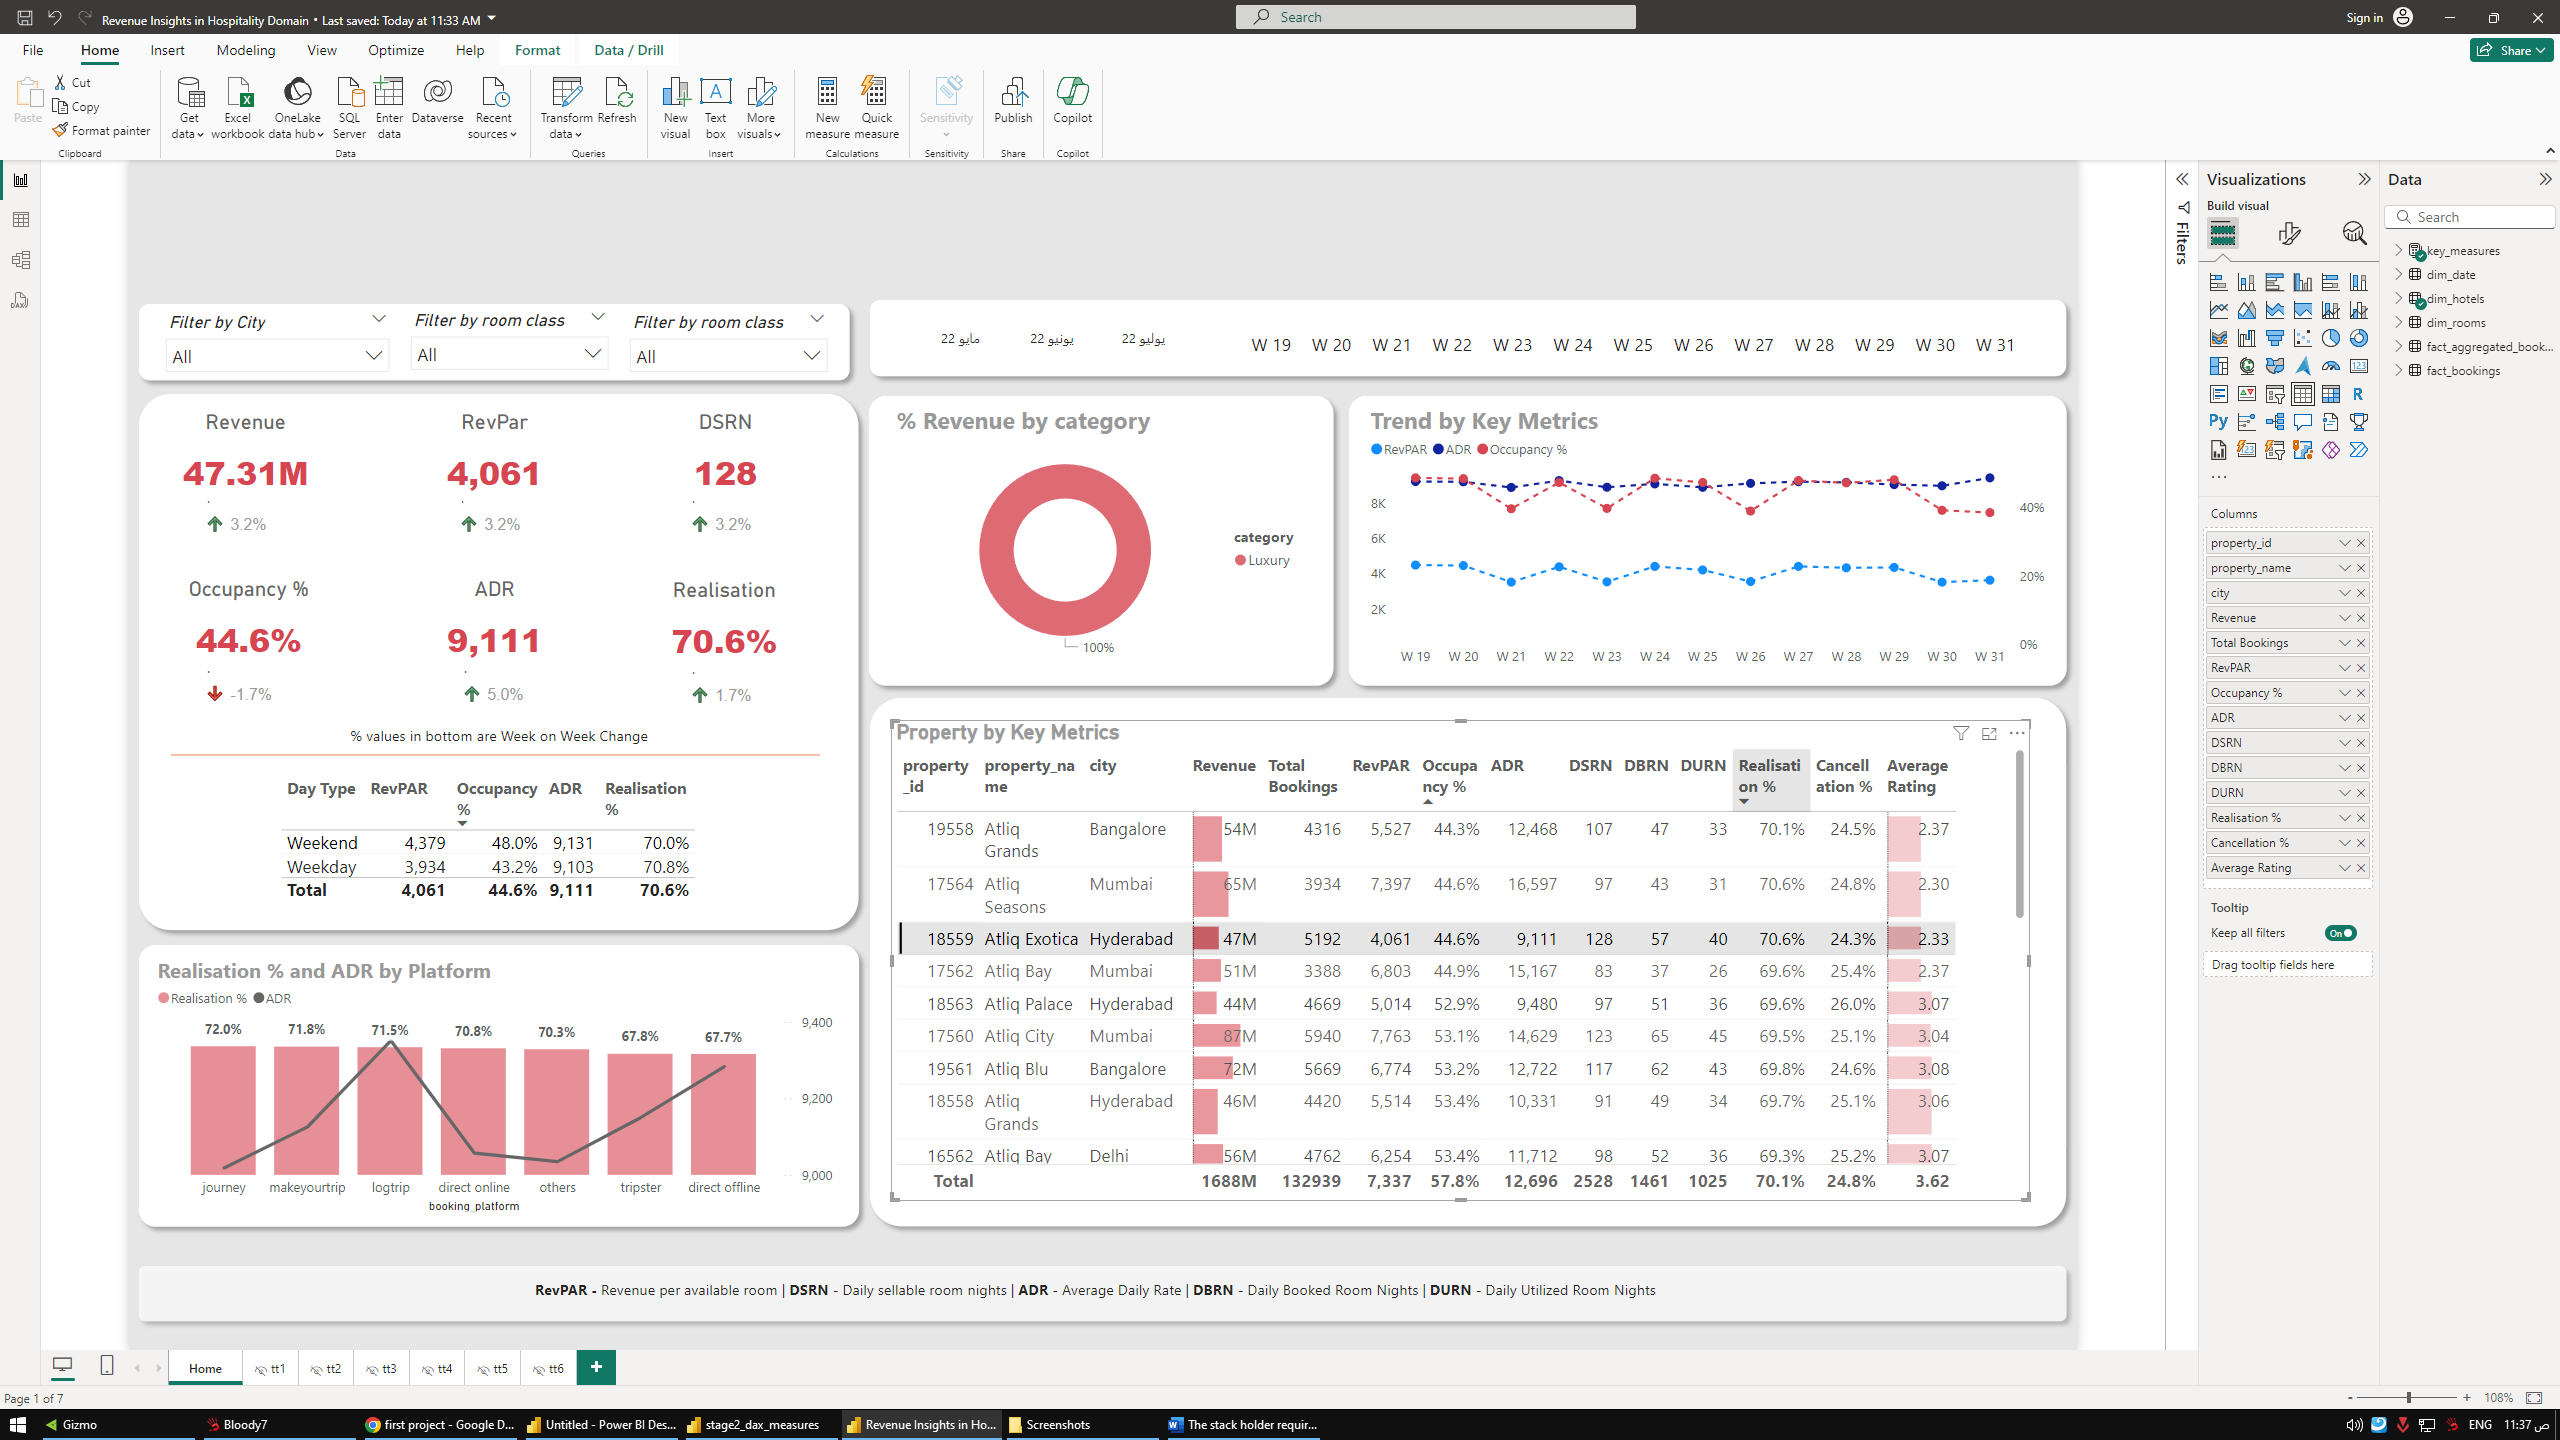

The dashboard page shown, as its layout file describes it:
{"tool":"powerbi","page":{"name":"Page 1","canvas":[1280,720],"ordinal":0},"visuals":[{"type":"tableEx","fields":{"Values":["dim_hotels.property_id","dim_hotels.property_name","key_measures.Revenue","key_measures.Total Bookings","key_measures.RevPAR","key_measures.Occupancy %","key_measures.ADR","key_measures.DSRN","key_measures.DBRN","key_measures.DURN","key_measures.Realisation %","key_measures.Cancellation %"]},"box":[277.8,248.5,987.6,446.6],"z":0},{"type":"advancedSlicerVisual","title":"filter by city ","fields":{"Values":["dim_hotels.city"]},"box":[0,113.9,478.8,62.1],"z":1000},{"type":"advancedSlicerVisual","title":"filter by room type","fields":{"Values":["dim_rooms.room_class"]},"box":[0,51.2,555.5,69.4],"z":2000},{"type":"advancedSlicerVisual","fields":{"Values":["dim_date.mmm yy"]},"box":[552.5,64.6,238.8,56],"z":3000},{"type":"advancedSlicerVisual","fields":{"Values":["dim_date.week no"]},"box":[0,0,1104.8,51],"z":4000},{"type":"card","title":"Revenue","fields":{"Values":["key_measures.Revenue"]},"box":[0,176.5,127.4,87.9],"z":5000},{"type":"tableEx","fields":{"Values":["key_measures.Revenue WoW change %"]},"box":[15.9,248.5,107,59.9],"z":6000},{"type":"donutChart","fields":{"Category":["dim_hotels.category"],"Y":["key_measures.Occupancy %"]},"box":[997.1,52.9,257.4,182.2],"z":6001}]}

Visuals, with their boxes on the page's 1280x720 design canvas (x1, y1, x2, y2). These are canvas units, not pixel positions in the 2560x1440 screenshot, which may show the page scaled, cropped or inside an application window:
tableEx - dim_hotels.property_id x dim_hotels.property_name: select_region(278, 248, 1265, 695)
"filter by city " advancedSlicerVisual: select_region(0, 114, 479, 176)
"filter by room type" advancedSlicerVisual: select_region(0, 51, 556, 121)
advancedSlicerVisual - dim_date.mmm yy: select_region(552, 65, 791, 121)
advancedSlicerVisual - dim_date.week no: select_region(0, 0, 1105, 51)
"Revenue" card: select_region(0, 176, 127, 264)
tableEx - key_measures.Revenue WoW change %: select_region(16, 248, 123, 308)
donutChart - dim_hotels.category x key_measures.Occupancy %: select_region(997, 53, 1254, 235)
